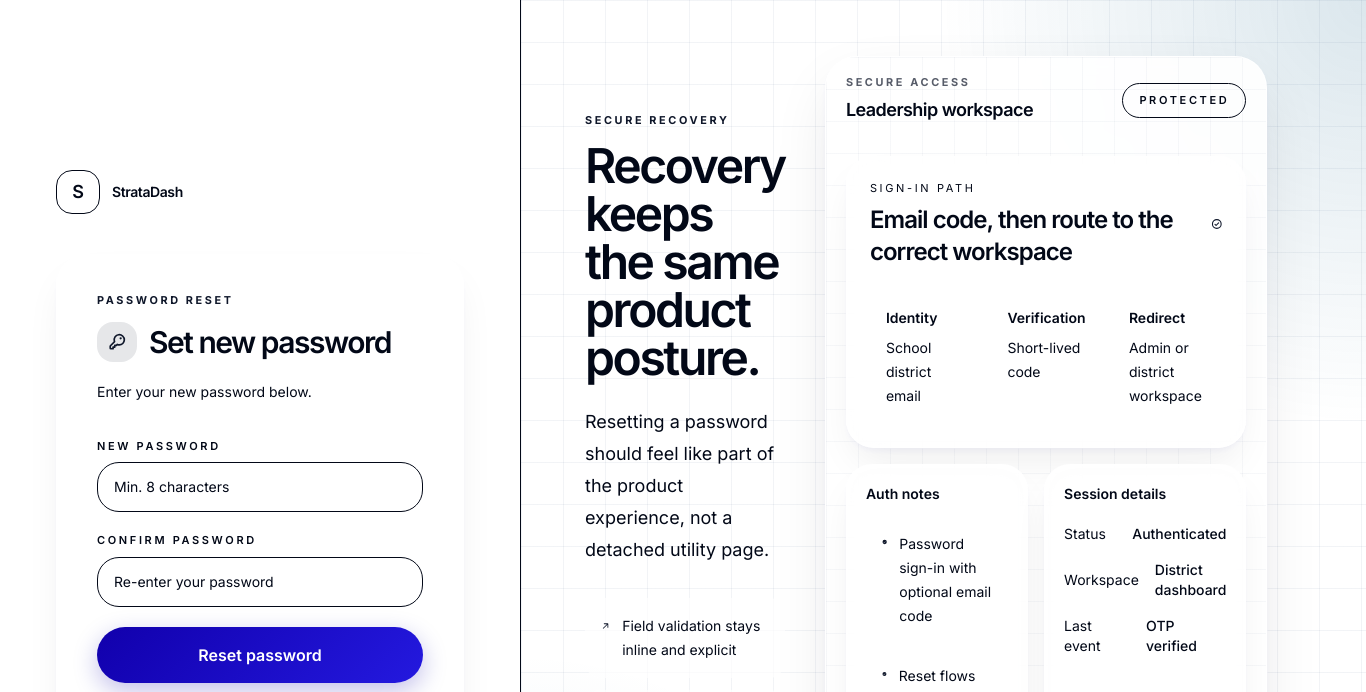
Scenario: ResetPassword › with token › shows error for expired/invalid token from API
Type "newpassword123" into the password field labelled "New password". click: (260, 487)
box: [97,462,423,512]
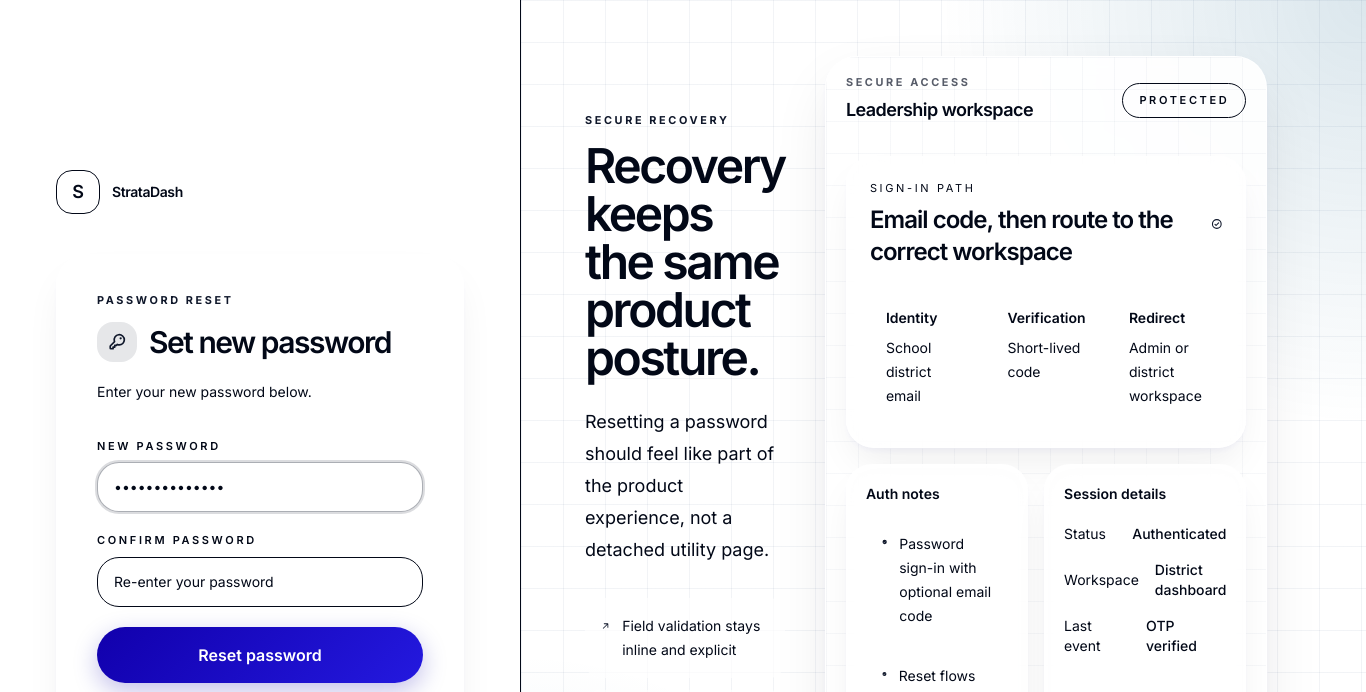
Type "newpassword123" into the password field labelled "Confirm password". click: (260, 582)
box: [97,557,423,607]
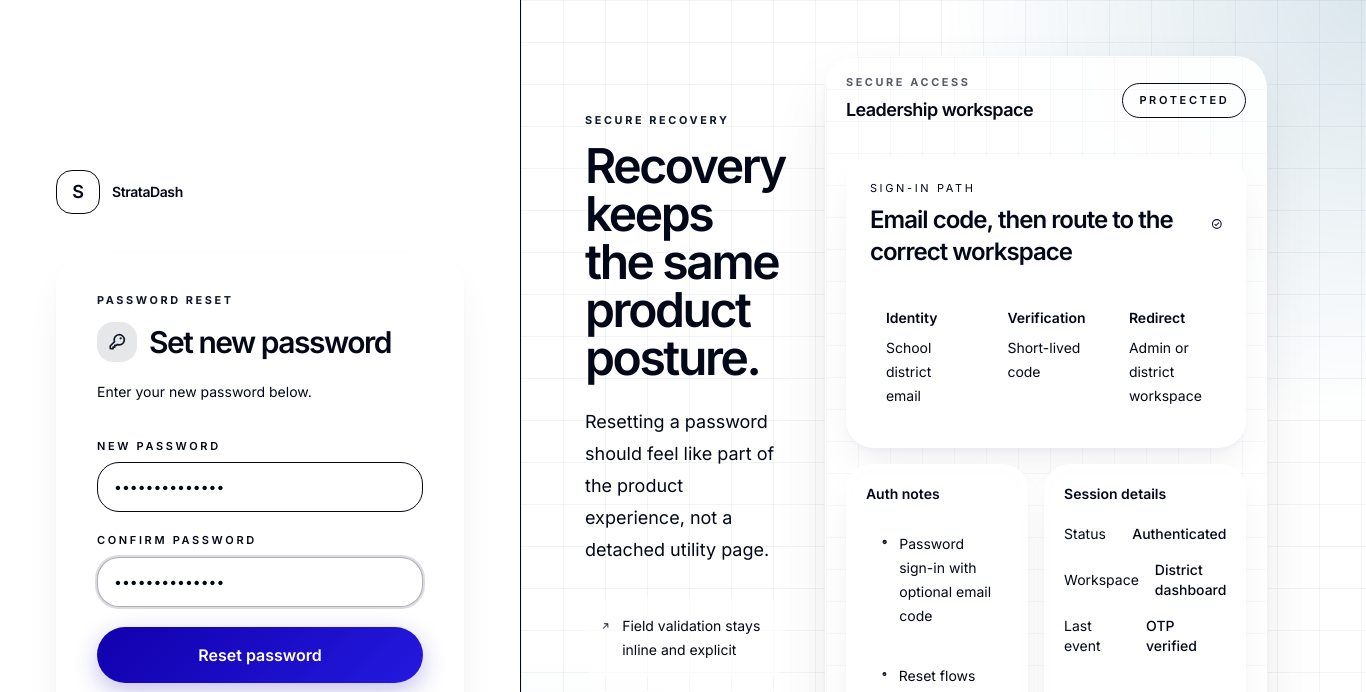
Click the button "Reset password". click: (260, 655)
box: [97,627,423,683]
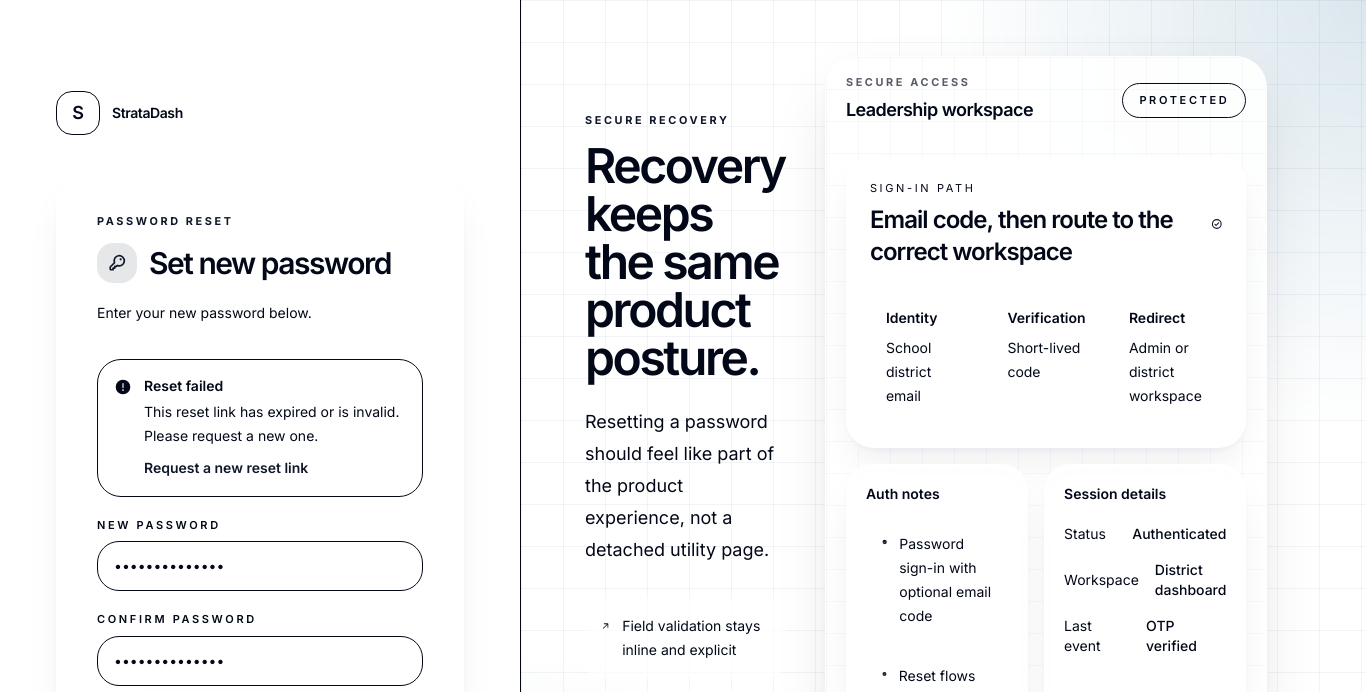
Check: the text "expired or is invalid" is shown, box [144,403,399,444]
